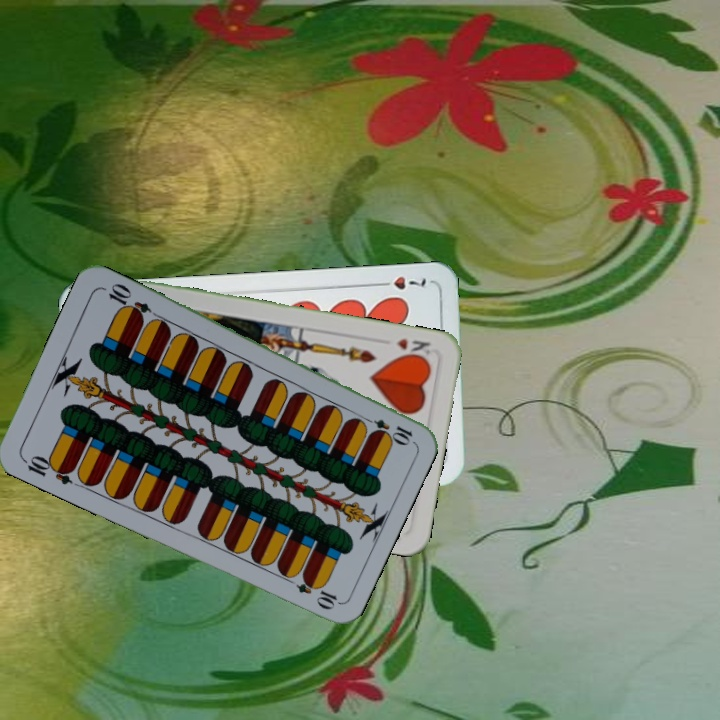E10: (19, 451, 77, 488), (358, 412, 415, 446)
H7: (373, 272, 431, 292)
HK: (392, 334, 433, 362)
